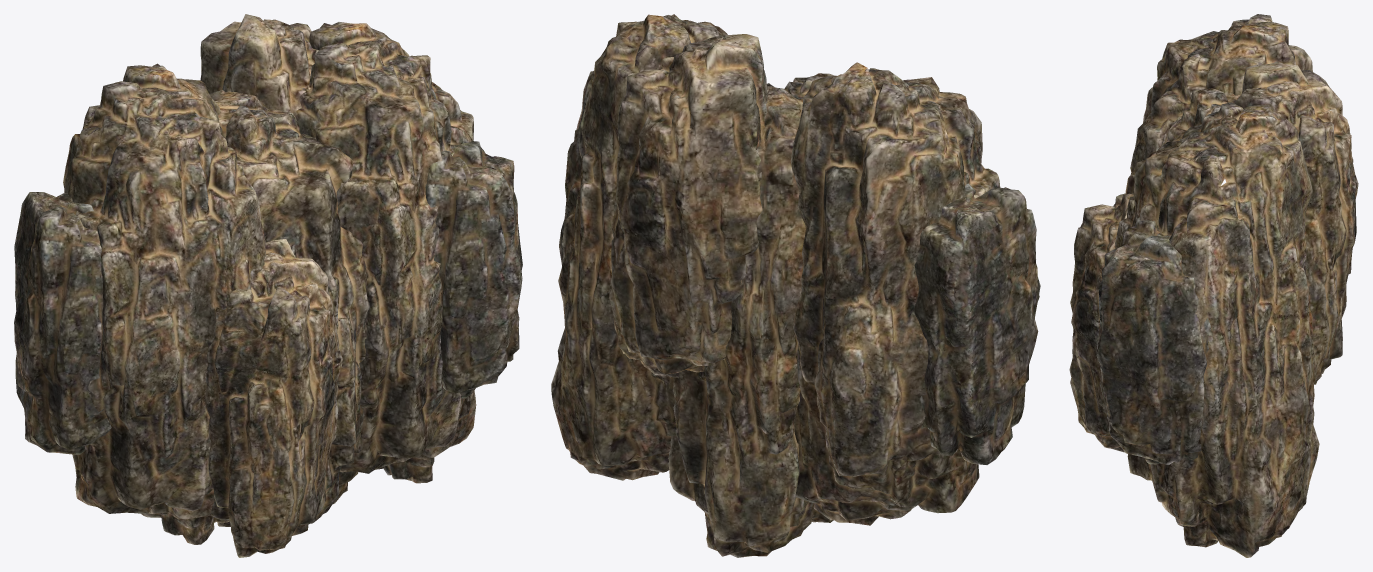
File: Rock - Dark G2-BM7R1Noi.glb
3 renders of one model, left to right at view 1: azimuth 30°, elevation 25°; view 2: azimuth 150°, elevation 25°; view 3: azimuth 270°, elevation 25°, orthographic. The views are drawn at different scales.
Visible parts, largest first — view 1: DarkRock_G2; view 2: DarkRock_G2; view 3: DarkRock_G2.
Part boxes in pixels (box(x1,y1,x2,y2)): DarkRock_G2: box(14, 14, 522, 557); DarkRock_G2: box(551, 14, 1040, 557); DarkRock_G2: box(1069, 14, 1358, 557).
Size of the model in its own units: 13.98 by 14.49 by 8.22.
Materials: 1 (1 with a texture image).
